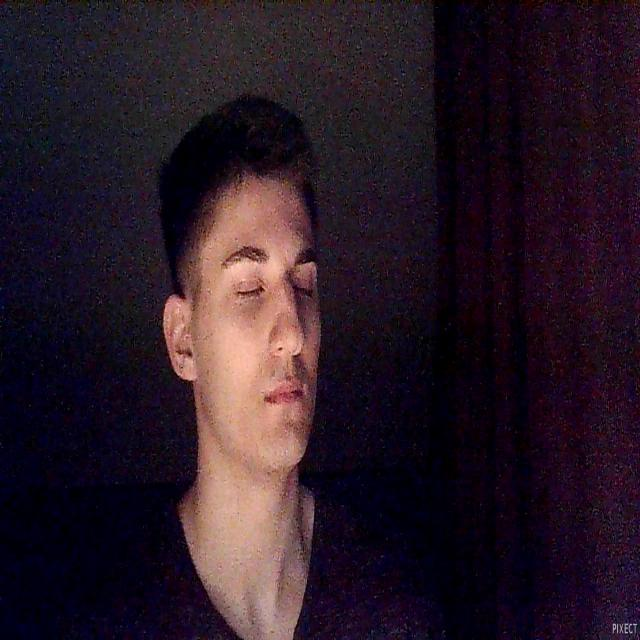Eyeclosed: (233, 280, 264, 301), (293, 274, 313, 306)
